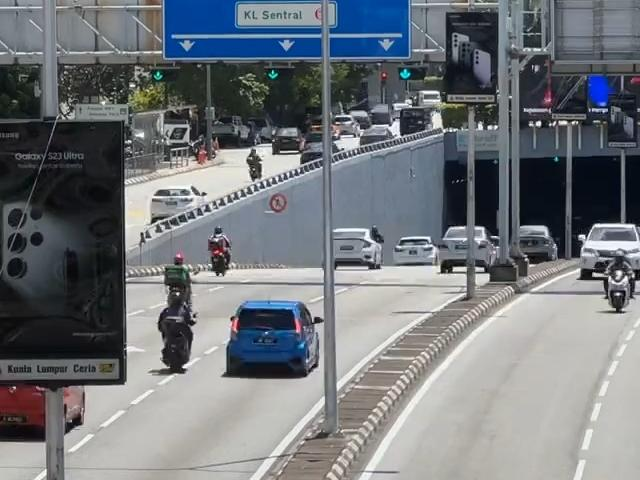car: (227, 298, 325, 375), (576, 218, 640, 280), (323, 222, 388, 278), (511, 219, 569, 269), (437, 224, 494, 270), (154, 183, 209, 217), (400, 233, 433, 264)
motorcycle: (141, 301, 204, 370), (598, 251, 640, 318), (150, 250, 196, 311), (200, 229, 241, 276), (241, 150, 271, 180)
